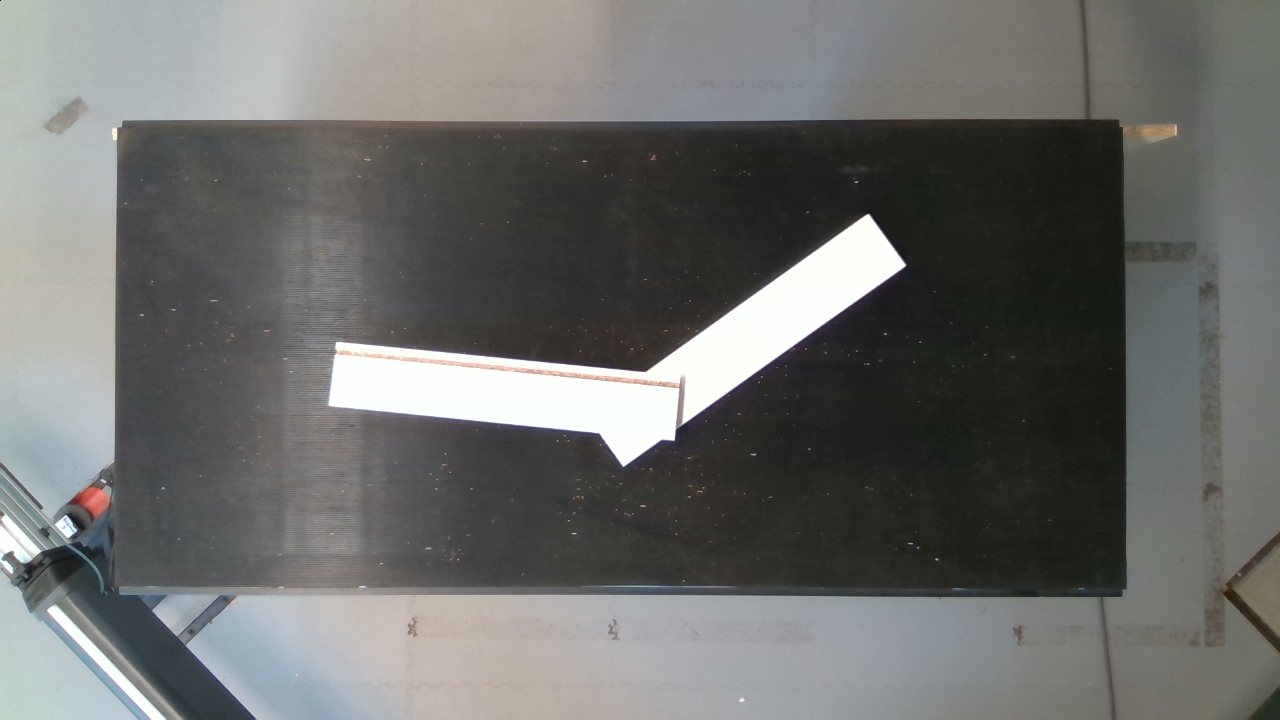part1: (594, 208, 916, 464), (308, 327, 708, 450)
